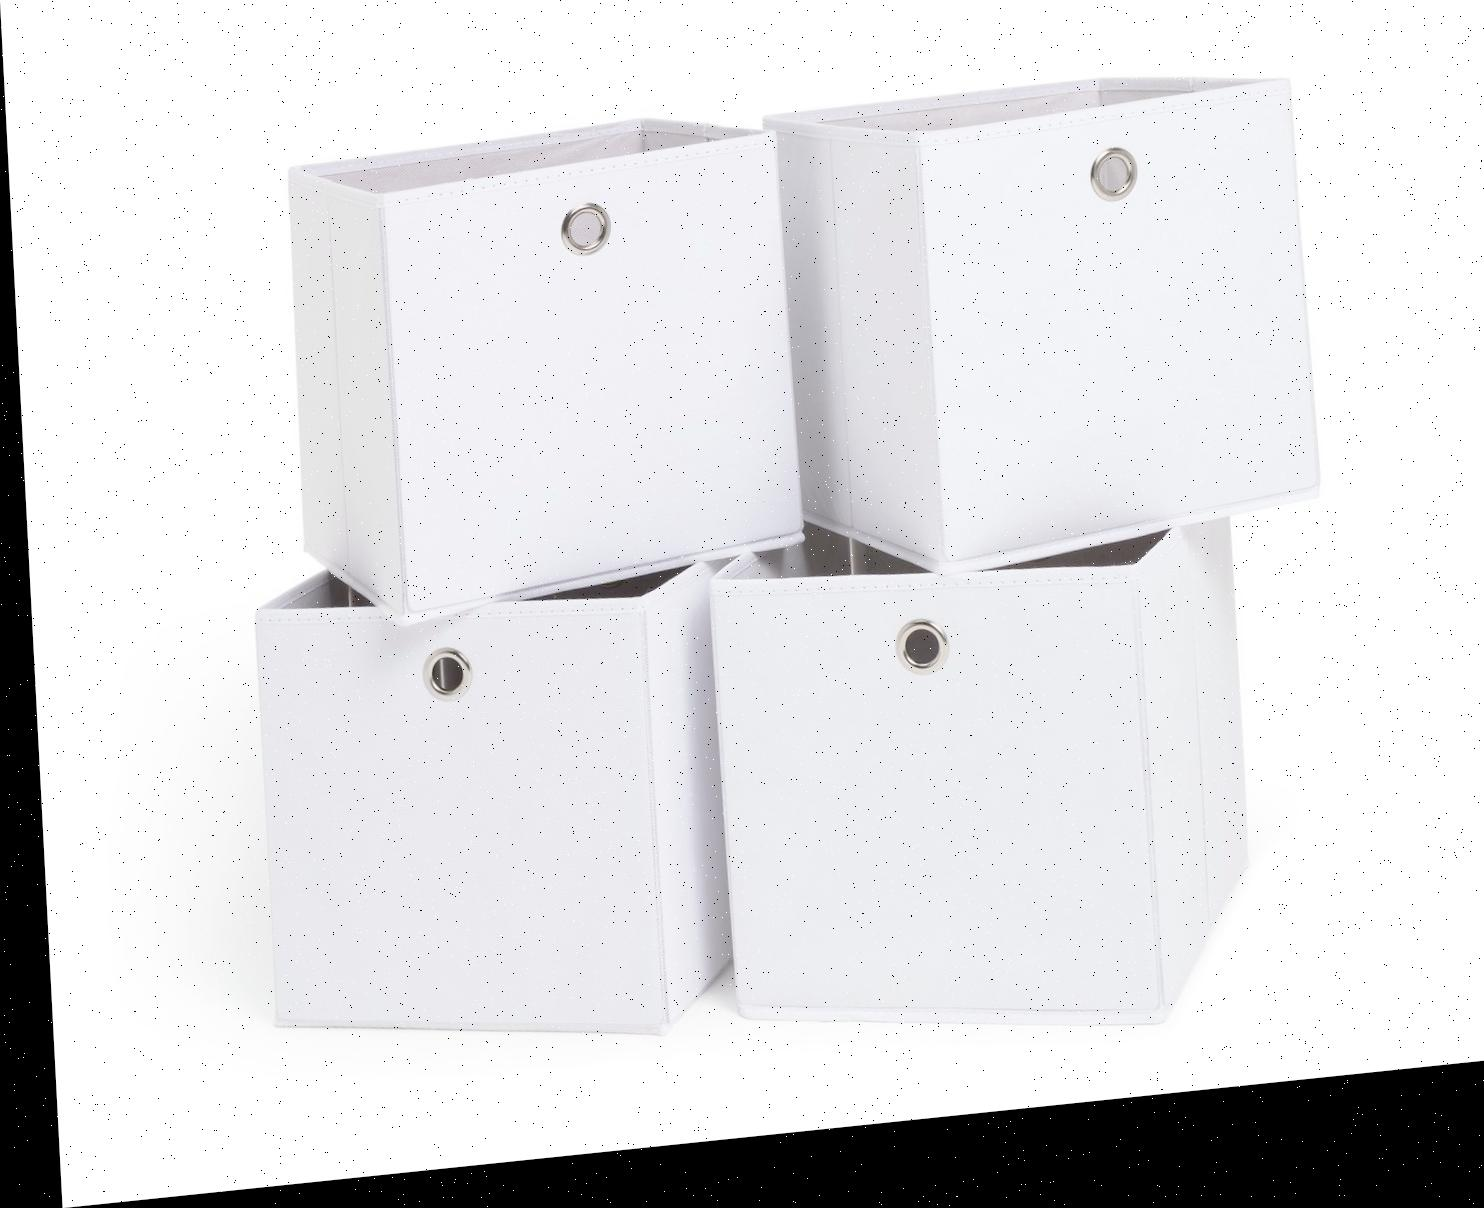cube: (703, 518, 1255, 1087), (780, 59, 1320, 590), (283, 106, 817, 641), (238, 555, 733, 1084)
